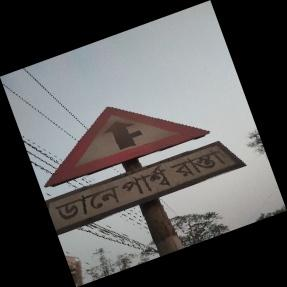Side-road-right: (38, 97, 246, 233)
